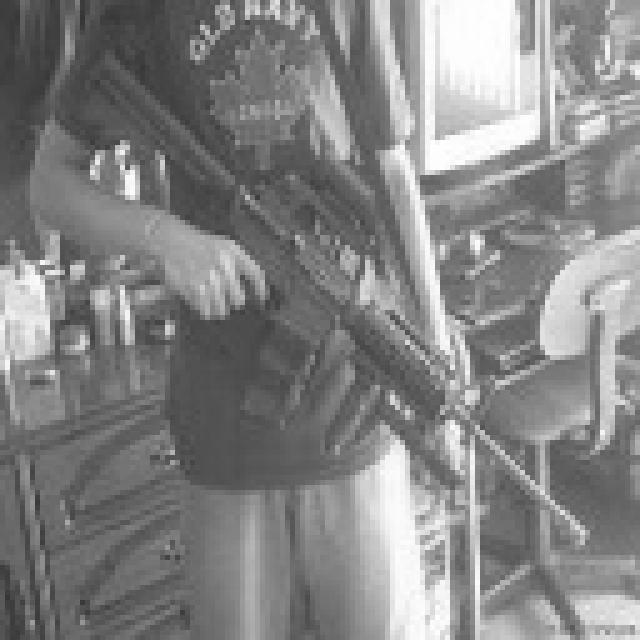Rifle: (65, 0, 604, 576)
